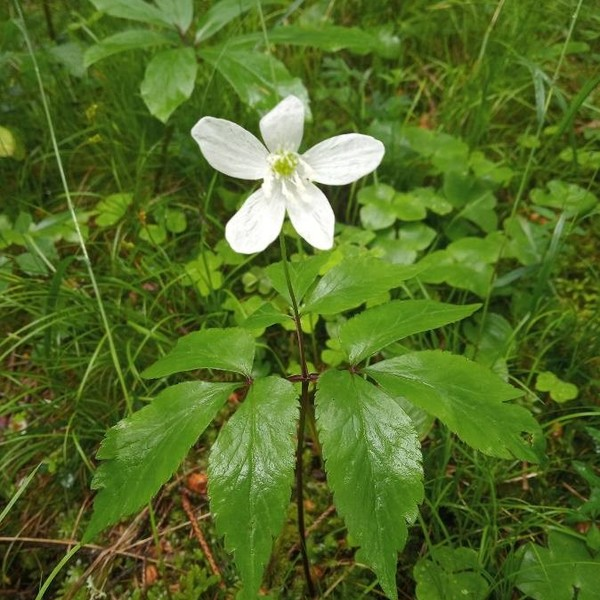obstacle: (101, 83, 550, 538)
